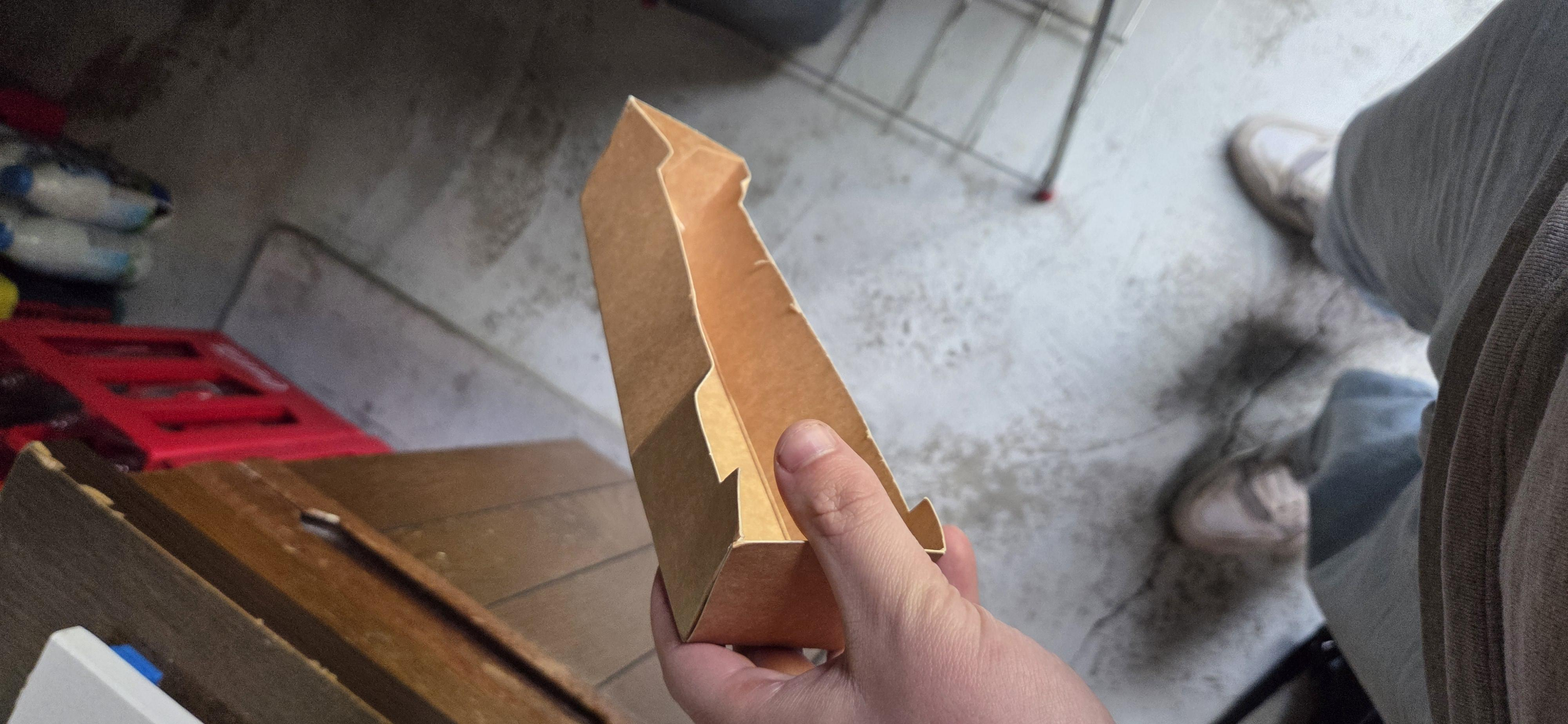Cardboard: (153, 268, 1373, 428)
